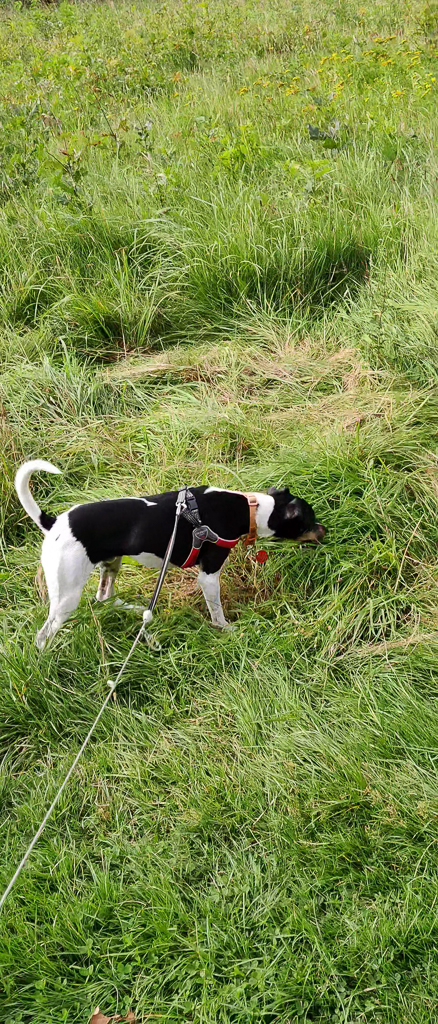Dog: (5, 445, 342, 671)
